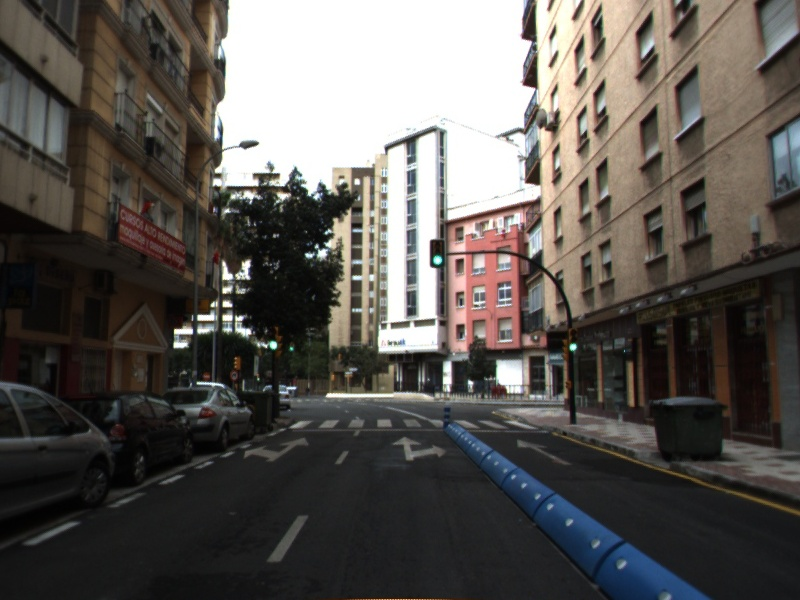STRAIGHT: (515, 437, 576, 467)
STRAIGHT_LEFT: (241, 435, 312, 464)
STRAIGHT_RIGHT: (389, 434, 449, 463)
